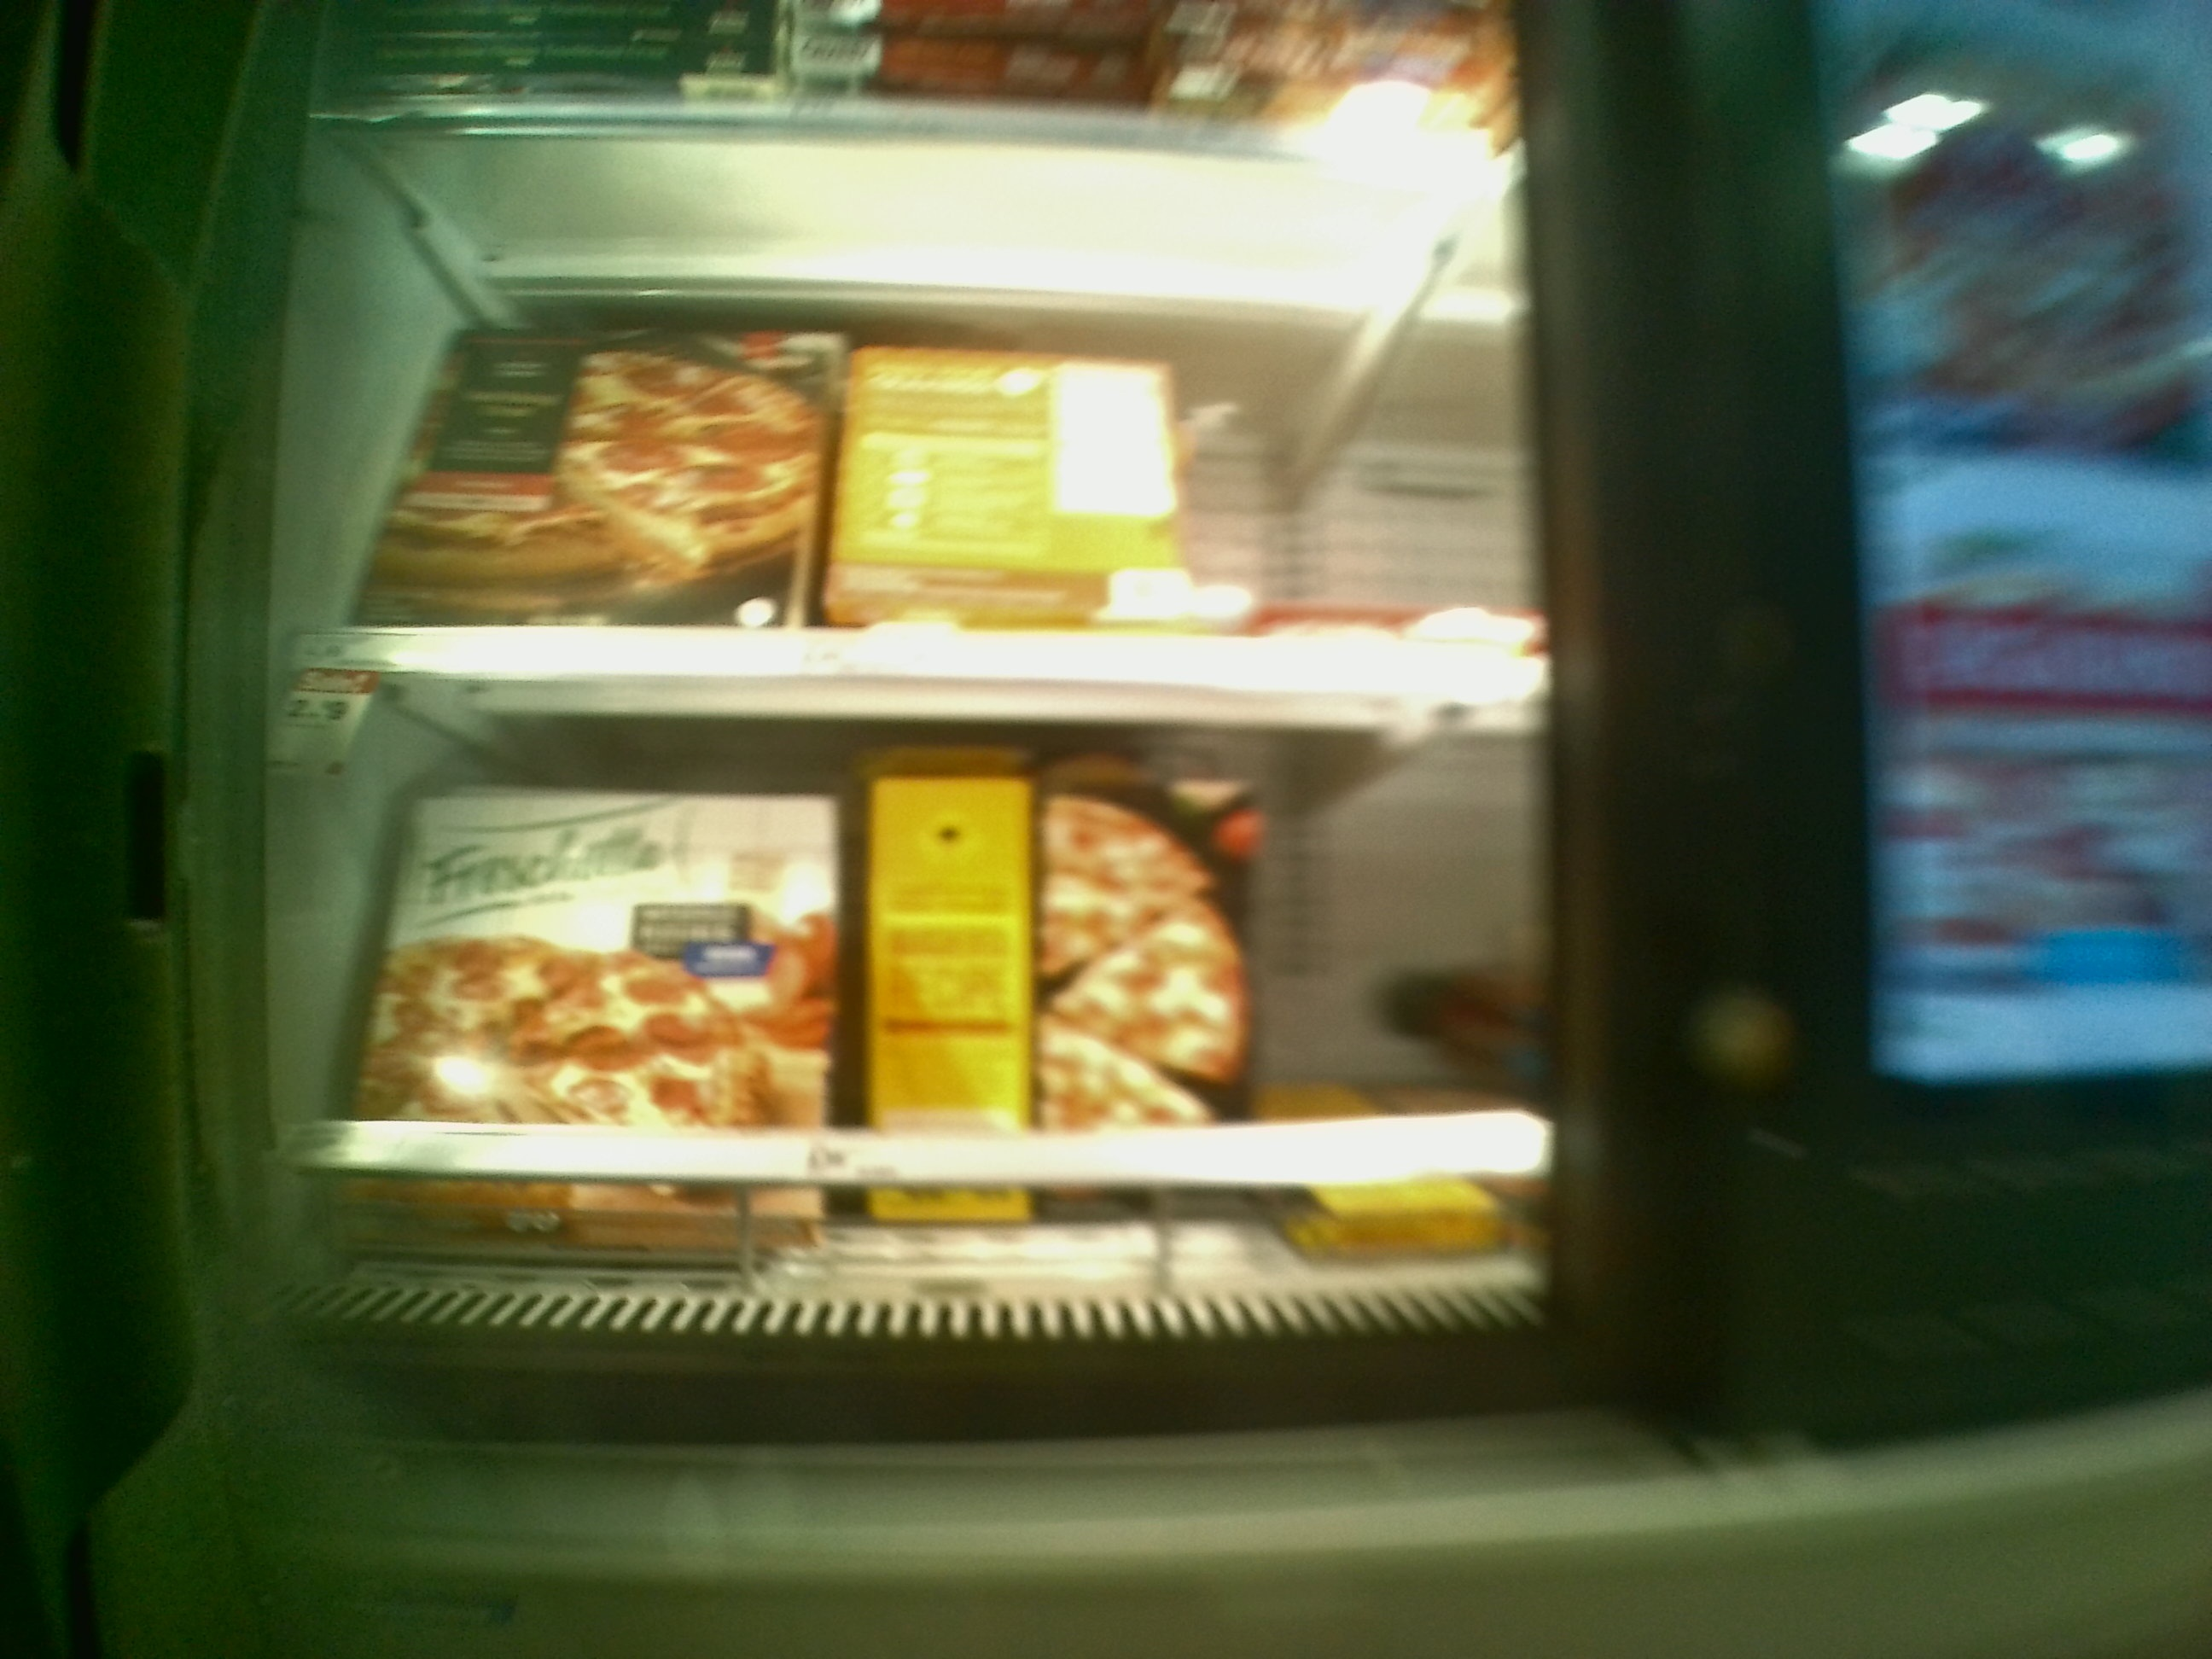shelf: (347, 680, 1559, 1270), (326, 127, 1548, 680)
